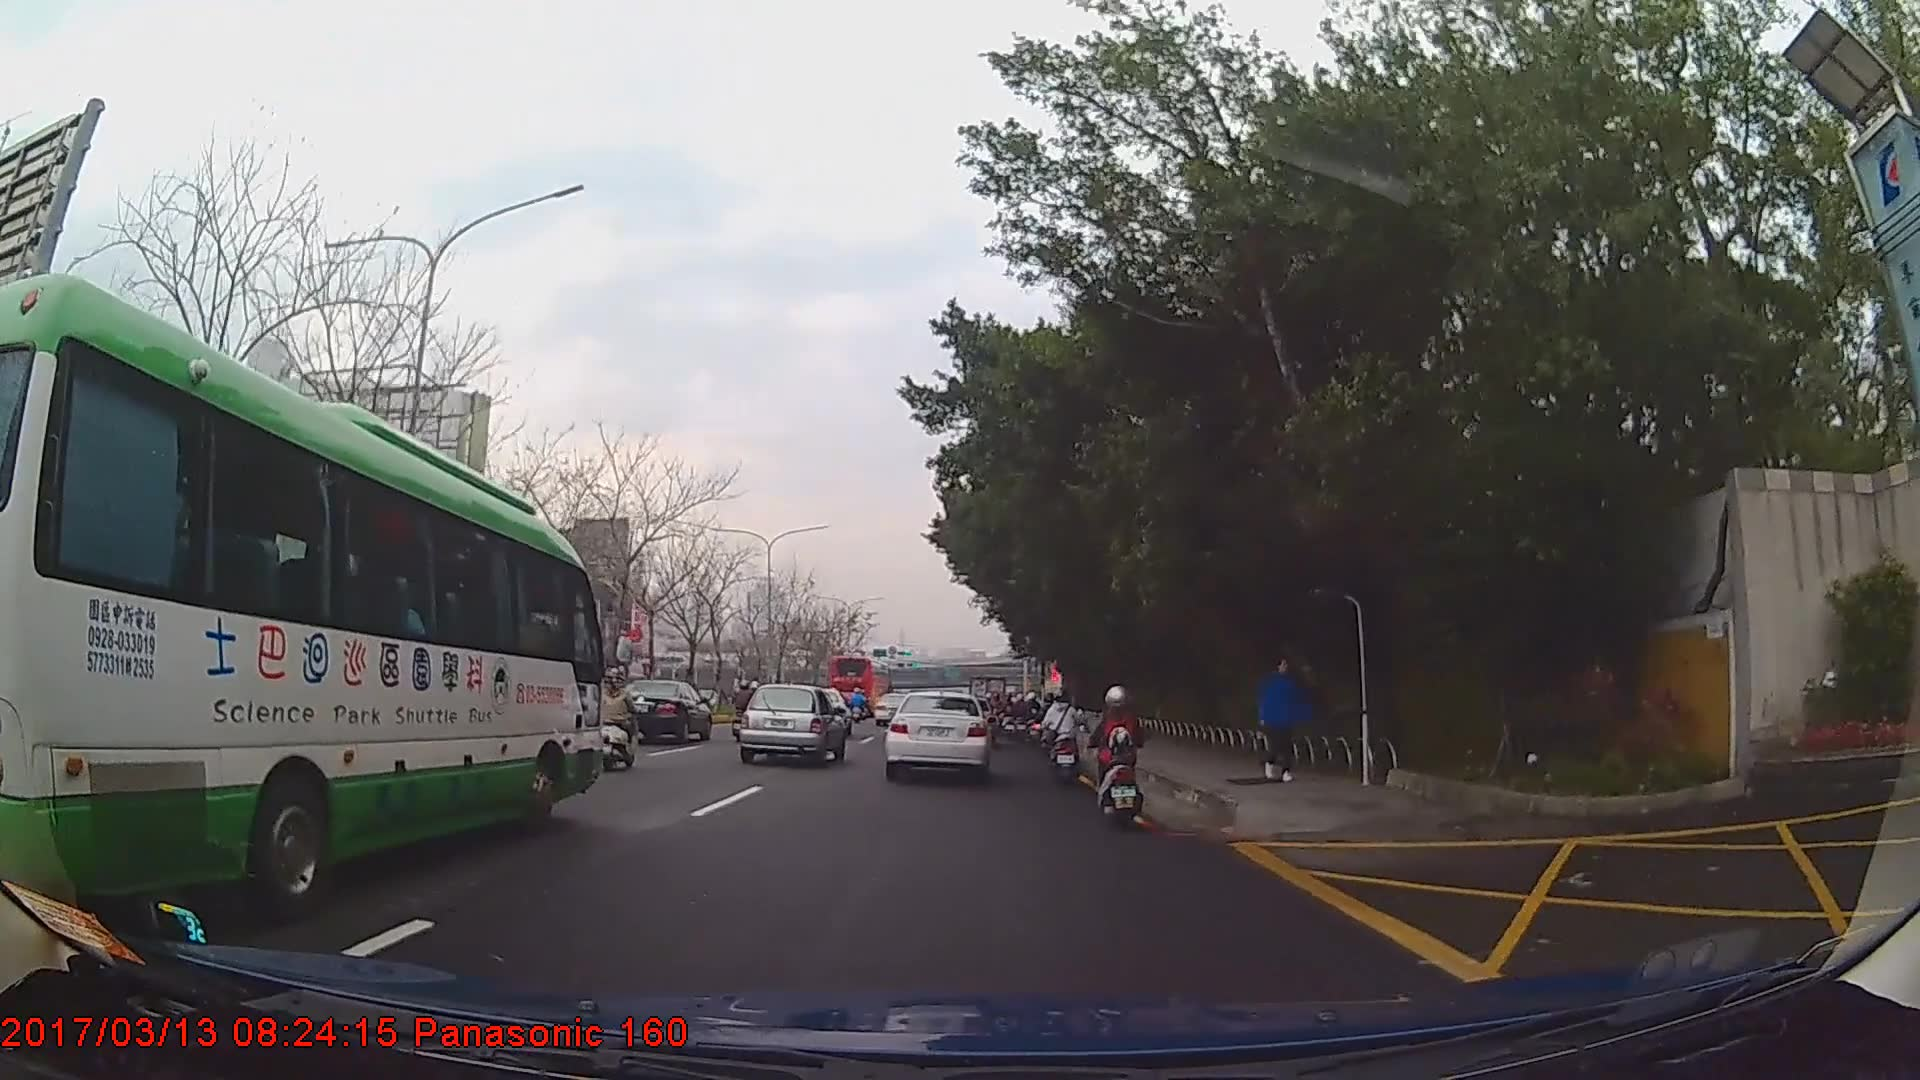pedestrian: (1259, 657, 1307, 781)
rider: (1088, 681, 1144, 822), (598, 665, 639, 774), (1040, 689, 1083, 778), (1037, 693, 1061, 758), (735, 676, 759, 727)
vehicle: (0, 270, 605, 920), (883, 687, 991, 780), (737, 682, 845, 764), (617, 673, 712, 744), (828, 650, 895, 712)
